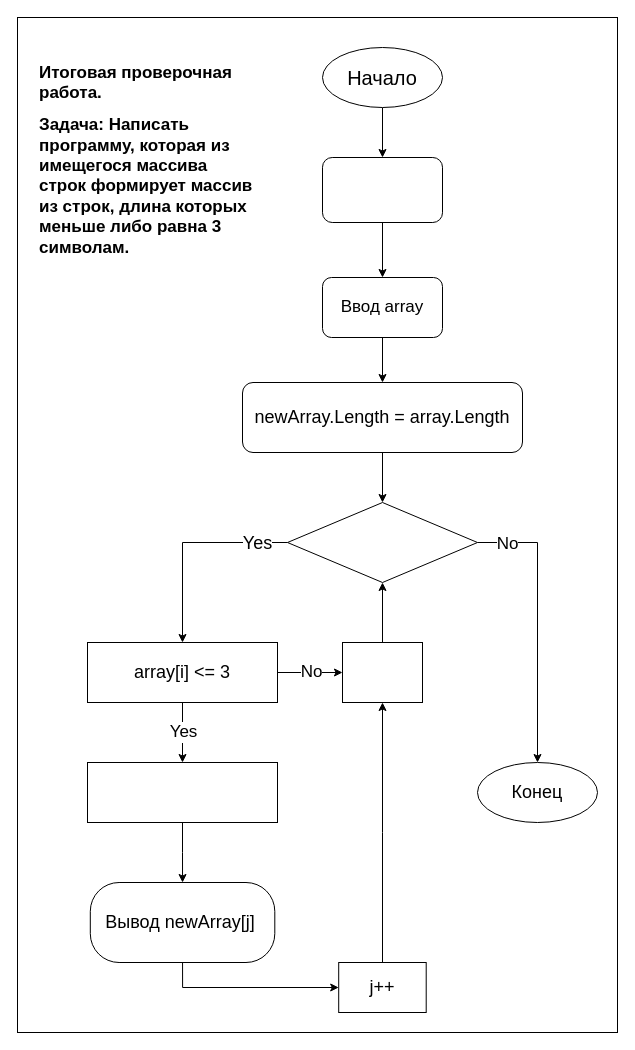
This 635x1050 diagram has some shape labels left out. Here are the shapes that lost their labels. From the top down, the centre of each, then its label:
the point at 382,189: аrray
the point at 382,542: i < array.Length
the point at 382,672: i++
the point at 182,792: newArray[j] = аrray[i]
